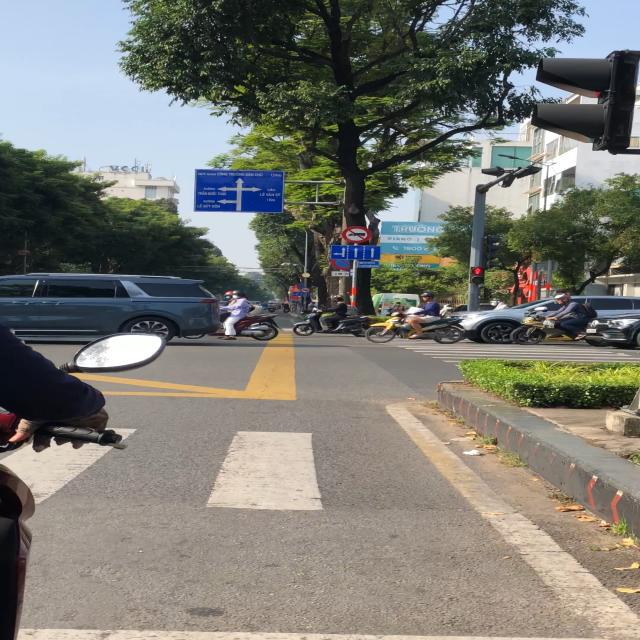Bien bao cam xe so-mi ro-mooc: (339, 223, 375, 244)
